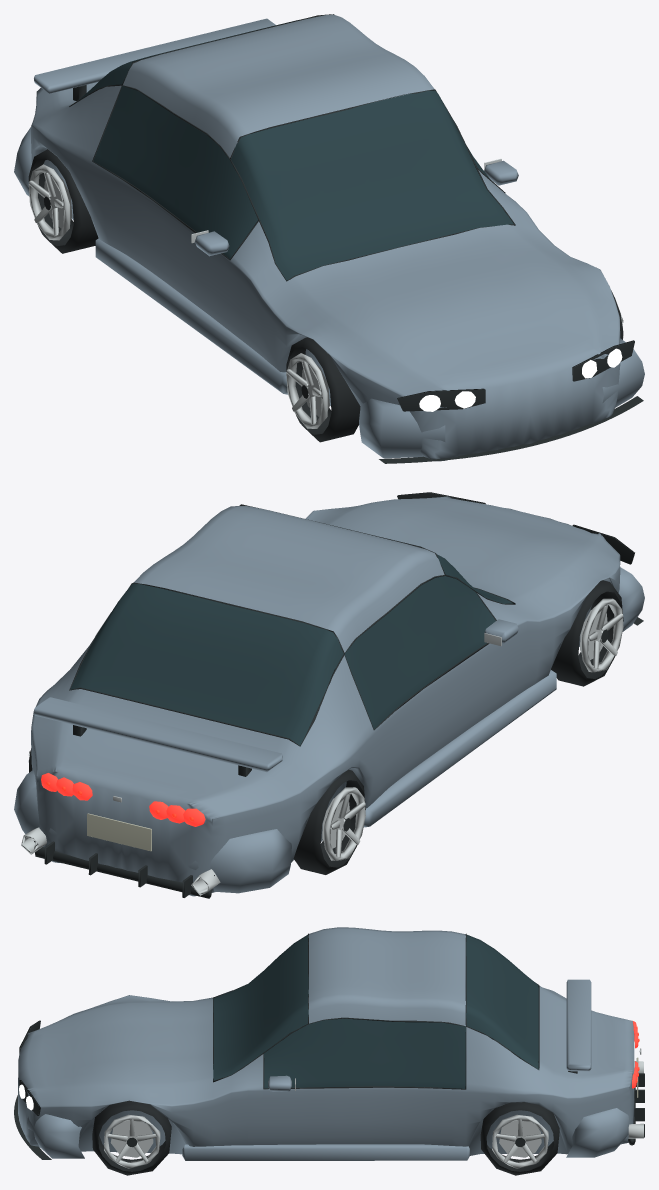
File: renvyx-vorna.glb
3 renders of one model, top to bottom at view 1: azimuth 30°, elevation 25°; view 2: azimuth 150°, elevation 25°; view 3: azimuth 270°, elevation 25°, orthographic. The views are drawn at different scales.
Parts seen in each view (by area): view 1: scocca, cristallo_ant, cofano, tetto, cristallo_sx, porta_sx, minigonna_sx, paraurti_ant, spoiler, ruota_ant_sx_gomma, ruota_post_sx_gomma, splitter_ant (+10 smaller); view 2: scocca, cristallo_post, tetto, cofano, portellone, cristallo_sx, porta_sx, spoiler, paraurti_post, minigonna_sx, ruota_ant_sx_gomma, ruota_post_sx_gomma (+9 smaller); view 3: scocca, tetto, cofano, cristallo_dx, porta_dx, cristallo_ant, cristallo_post, portellone, minigonna_dx, spoiler, paraurti_post, ruota_ant_dx_gomma (+10 smaller).
Boxes of the visible parts, x1,y1,x2,y2 form: scocca: [31, 85, 620, 461]; cristallo_ant: [231, 90, 513, 280]; cofano: [287, 224, 601, 381]; tetto: [123, 14, 434, 157]; cristallo_sx: [93, 85, 258, 258]; porta_sx: [92, 162, 245, 343]; minigonna_sx: [95, 238, 287, 394]; paraurti_ant: [359, 338, 644, 458]; spoiler: [34, 18, 275, 93]; ruota_ant_sx_gomma: [286, 337, 360, 442]; ruota_post_sx_gomma: [28, 149, 98, 253]; splitter_ant: [379, 396, 643, 463]; scocca: [31, 496, 620, 896]; cristallo_post: [70, 583, 343, 745]; tetto: [134, 505, 444, 652]; cofano: [325, 498, 601, 604]; portellone: [50, 689, 299, 807]; cristallo_sx: [344, 576, 495, 729]; porta_sx: [367, 636, 516, 807]; spoiler: [33, 697, 282, 772]; paraurti_post: [14, 769, 291, 893]; minigonna_sx: [363, 670, 556, 827]; ruota_ant_sx_gomma: [551, 580, 623, 686]; ruota_post_sx_gomma: [293, 769, 365, 874]; scocca: [18, 988, 634, 1155]; tetto: [308, 927, 465, 1026]; cofano: [40, 998, 213, 1092]; cristallo_dx: [264, 1018, 465, 1088]; porta_dx: [248, 1087, 465, 1146]; cristallo_ant: [213, 934, 308, 1080]; cristallo_post: [466, 935, 538, 1069]; portellone: [539, 986, 634, 1082]; minigonna_dx: [182, 1144, 469, 1160]; spoiler: [566, 979, 591, 1071]; paraurti_post: [566, 1108, 632, 1157]; ruota_ant_dx_gomma: [92, 1100, 171, 1175].
Size of the model in its own units: 2.3 by 1.52 by 5.36.
